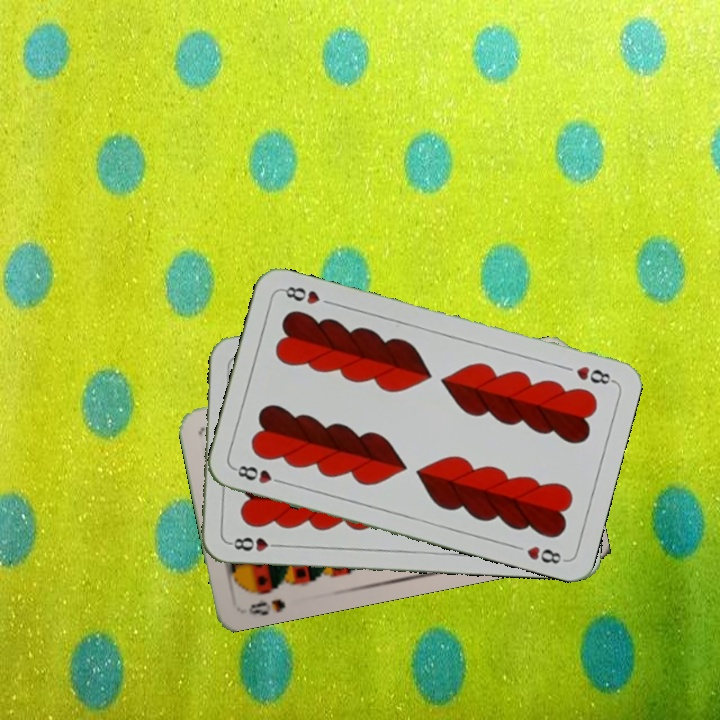H8: (230, 461, 288, 487), (225, 533, 284, 554), (572, 362, 617, 387)
S8: (244, 595, 288, 618)
